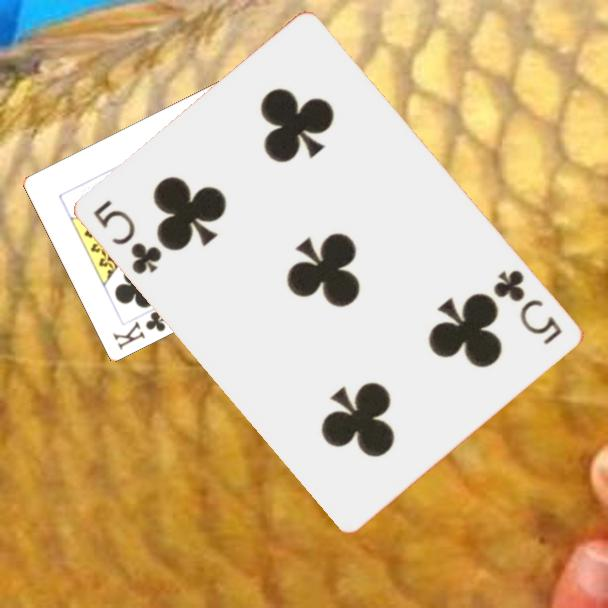c05: (490, 266, 566, 348), (90, 196, 166, 278)
c13: (109, 307, 170, 352)
